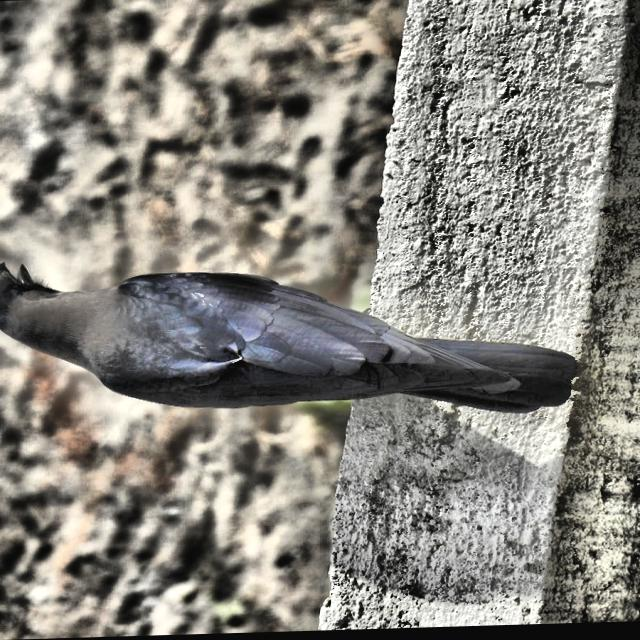crow: (0, 240, 612, 480)
